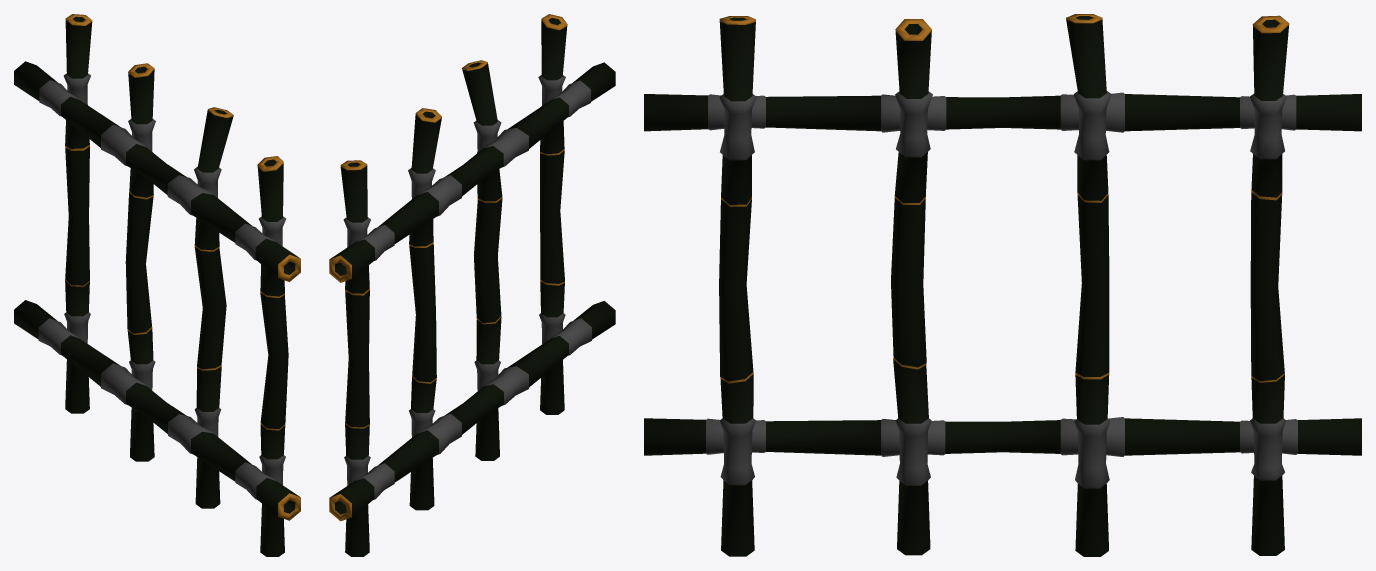
The model's file is Fence_A.obj.
3 renders of one model, left to right at view 1: azimuth 30°, elevation 25°; view 2: azimuth 150°, elevation 25°; view 3: azimuth 270°, elevation 25°, orthographic. The views are drawn at different scales.
Parts seen in each view (by area): view 1: Fence_A; view 2: Fence_A; view 3: Fence_A.
Boxes of the visible parts, x1=… form: Fence_A: x1=14, y1=14, x2=300, y2=556; Fence_A: x1=329, y1=14, x2=615, y2=556; Fence_A: x1=644, y1=14, x2=1361, y2=556.
Bounding box in the file's own units: 0.4602 × 3.29 × 4.01.
